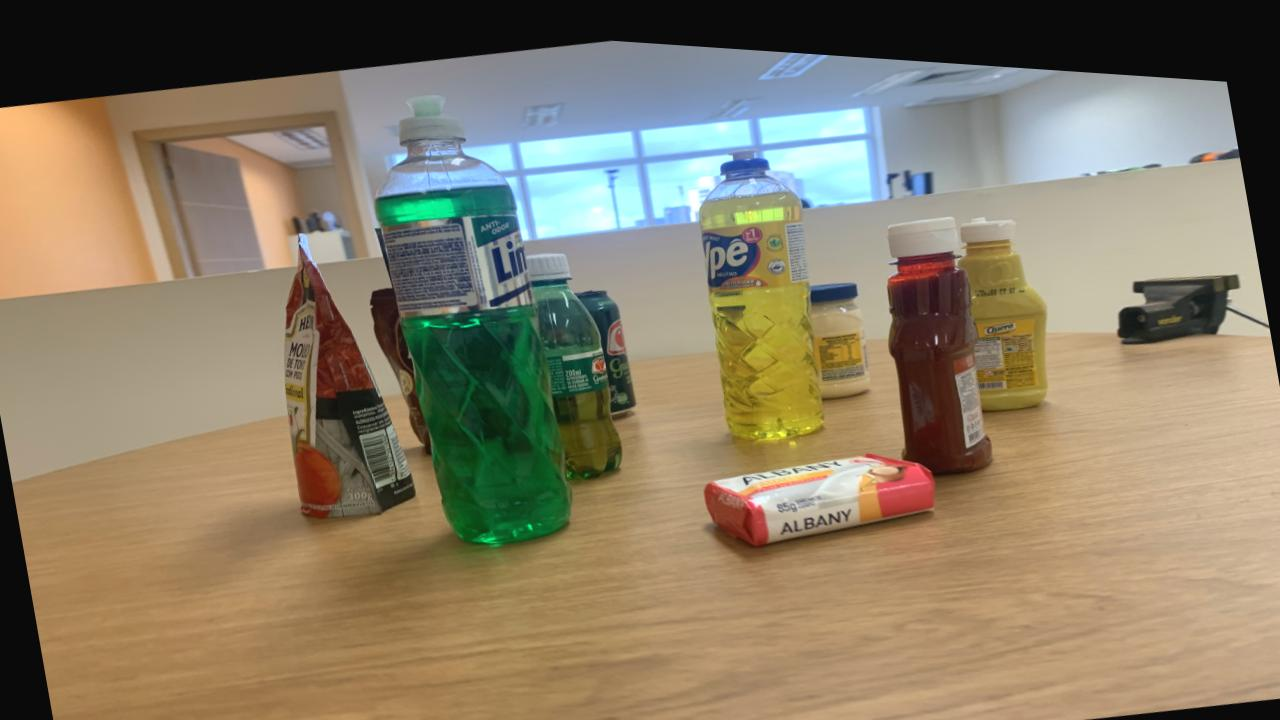Coffee-Pantry_Items: (369, 282, 431, 447)
Detergent-Cleanup_Items: (374, 88, 572, 536), (697, 138, 824, 428)
Guarana-Drinks: (525, 244, 622, 471)
Guarana_Can-Drinks: (576, 281, 635, 410)
Ketchup-Pantry_Items: (886, 203, 992, 461)
Mayonnaise-Pantry_Items: (809, 270, 870, 386)
Mustard-Pantry_Items: (959, 203, 1048, 396)
Soap-Cleanup_Items: (703, 441, 935, 535)
Tomato_Sauce-Pantry_Items: (283, 232, 415, 513)
